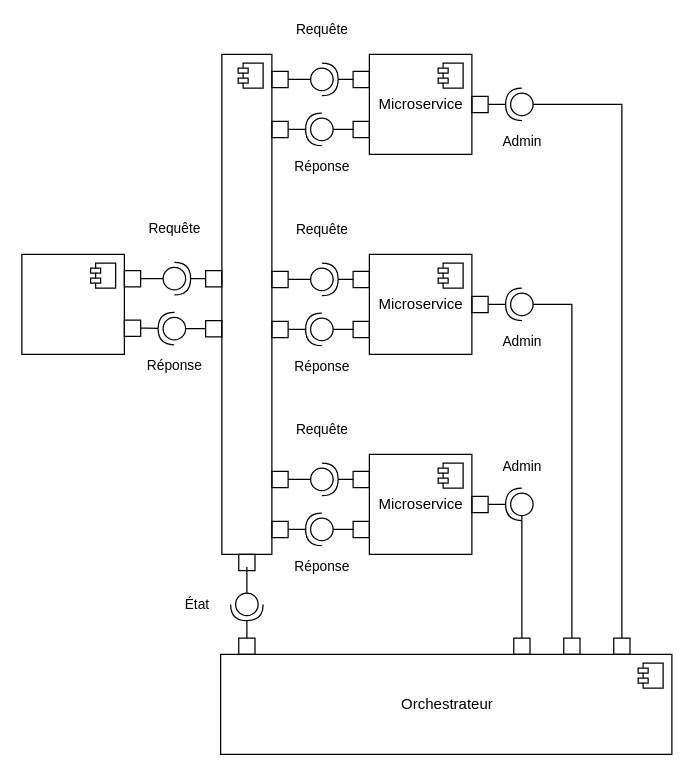
Image size: 694x776. Some labels were removed from this diagram. The shapes that lost their labels are listed below. From the top down, each one's centre as x and y in pixels, then its label:
At point (72, 303): "Navigateur".
At point (246, 303): "API".
